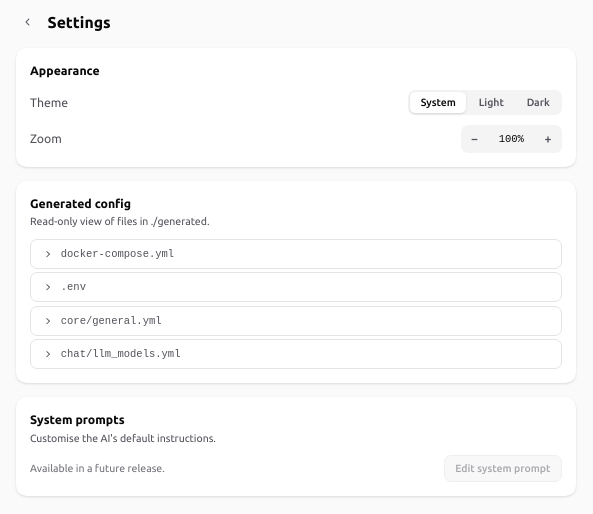
it: settings/+page.svelte › clicking zoom-out updates display to 90%
Click the button with test id "zoom-out" at coordinates (475, 139), box top-left (462, 127), bottom-right (487, 151)
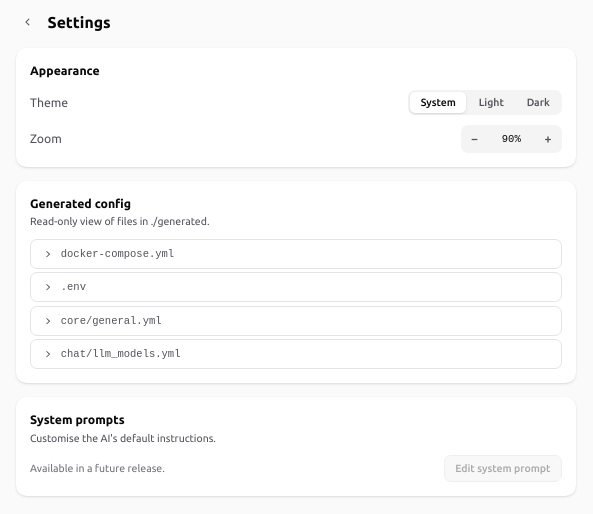
Result: the button with test id "zoom-reset" reads "90%" at top-left (488, 130), bottom-right (534, 148)
